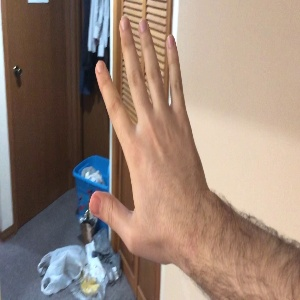hand: (89, 16, 205, 257)
